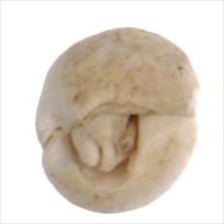L3: (67, 108, 140, 180)
L4: (35, 25, 199, 213)
